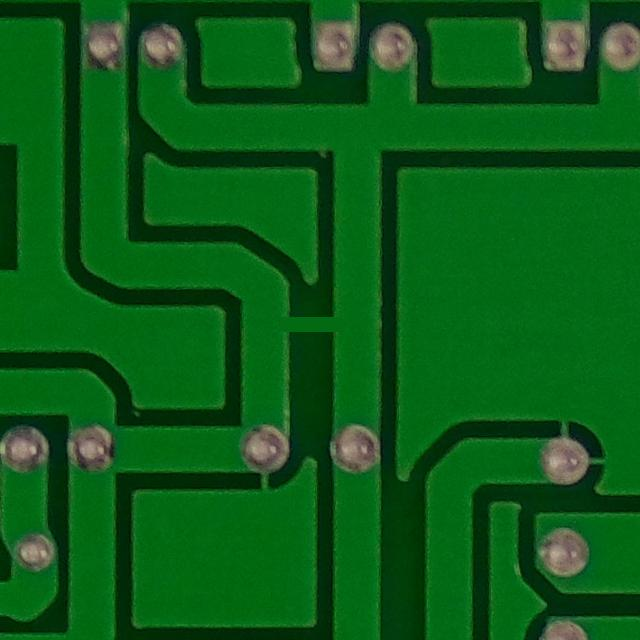short: (261, 259, 379, 381)
